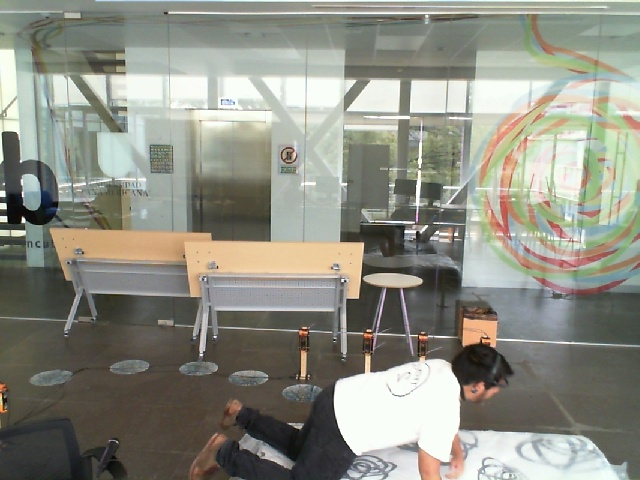fall: (179, 343, 522, 477)
